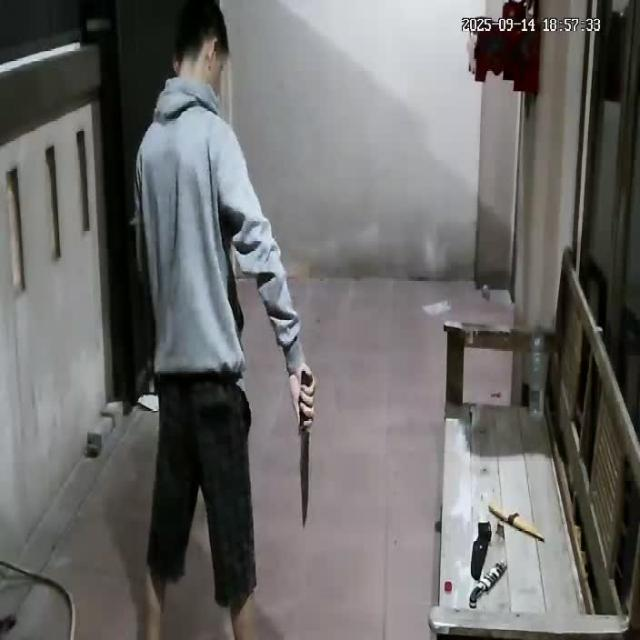senjata_tajam: (299, 427, 311, 530)
